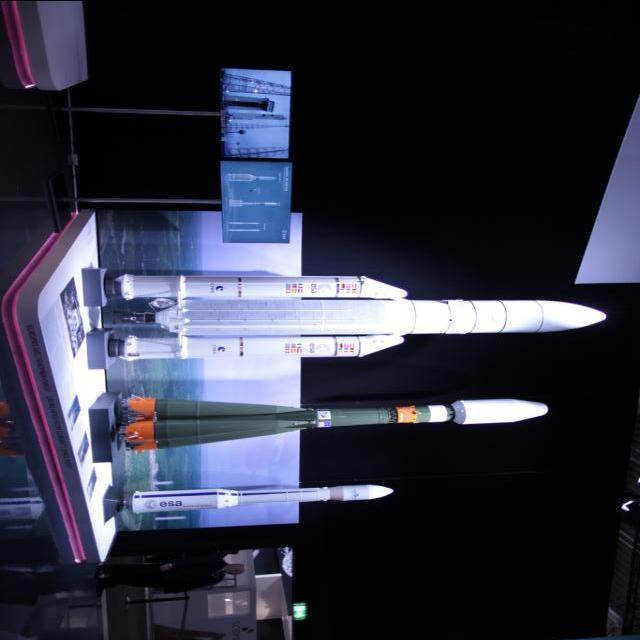missile: (108, 273, 608, 365), (119, 390, 549, 456), (128, 482, 396, 516)
